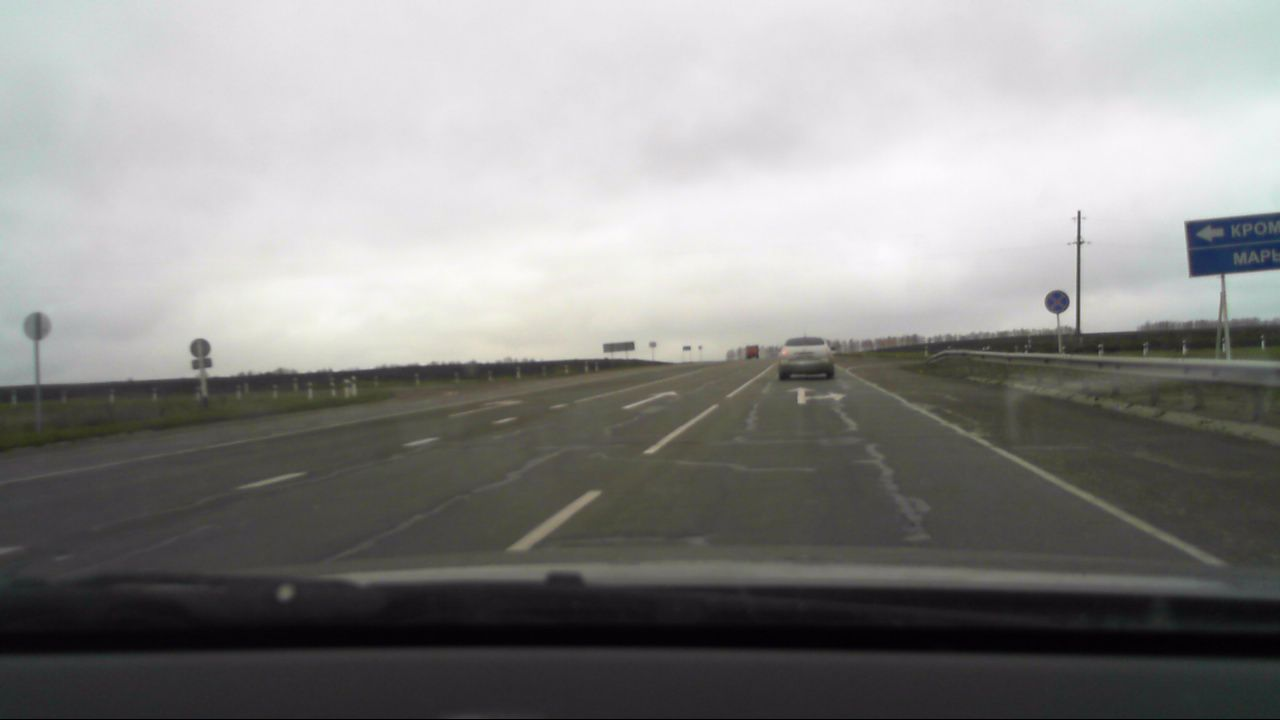No Parking: (1043, 287, 1070, 315)
